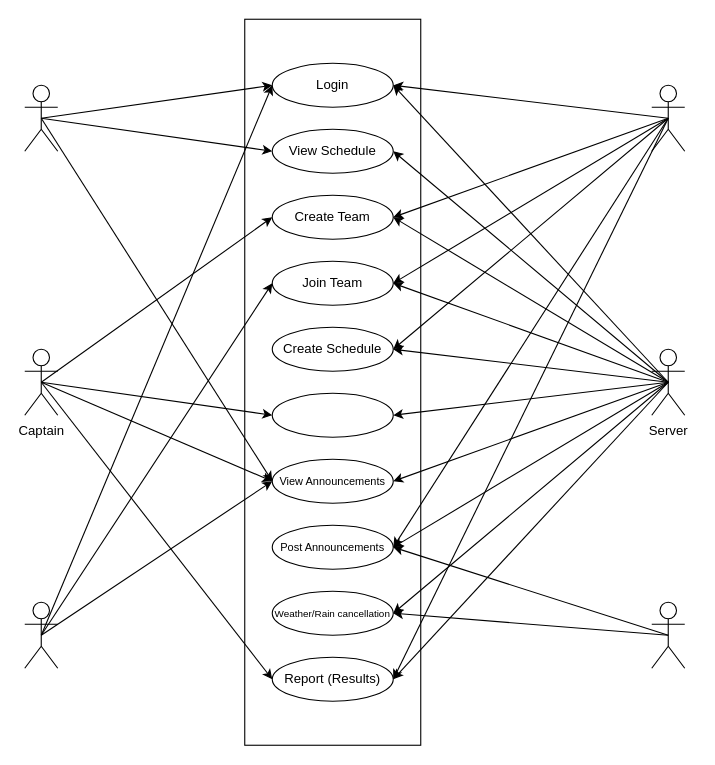
The diagram is 715 pixels wide and 765 high, and some of its shapes have lost their labels. Here are the shapes that lost their labels. From the top down, the box of each, then its label:
(24, 84, 58, 151): User
(651, 84, 685, 151): Database
(271, 392, 393, 437): Request Reschedule
(24, 601, 58, 668): Players
(651, 601, 685, 668): Admin
